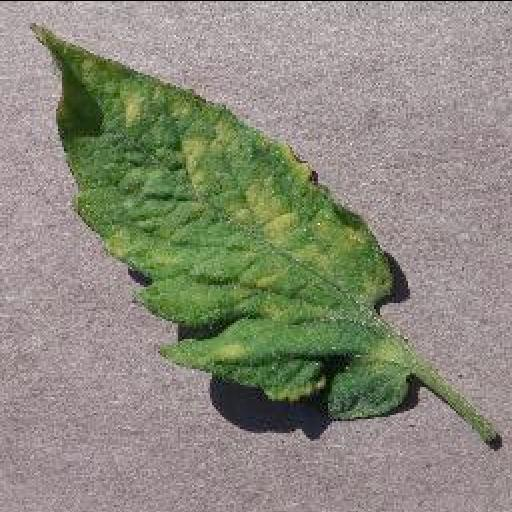disease_tomato: (30, 22, 410, 416)
